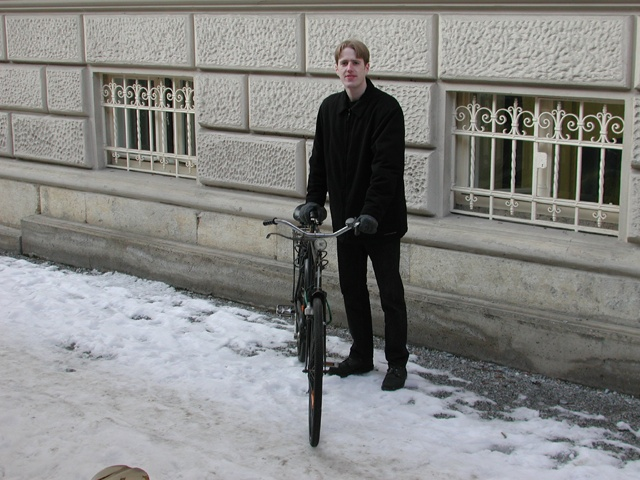person: (311, 39, 412, 388)
